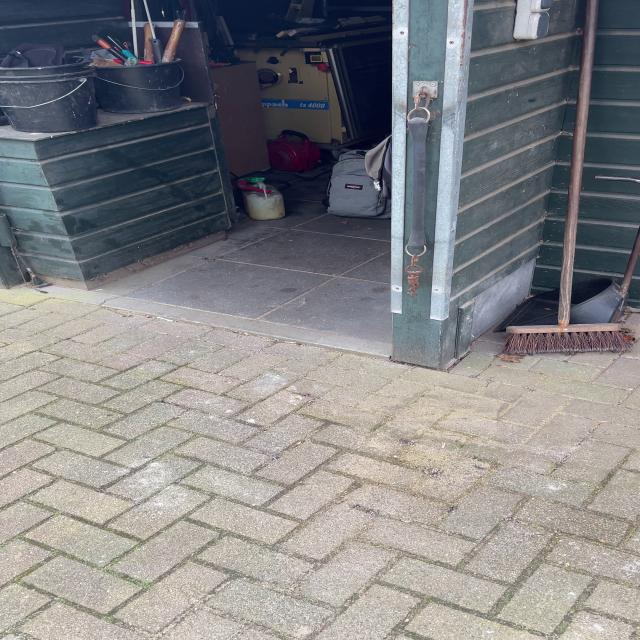backpack: (322, 147, 396, 218)
